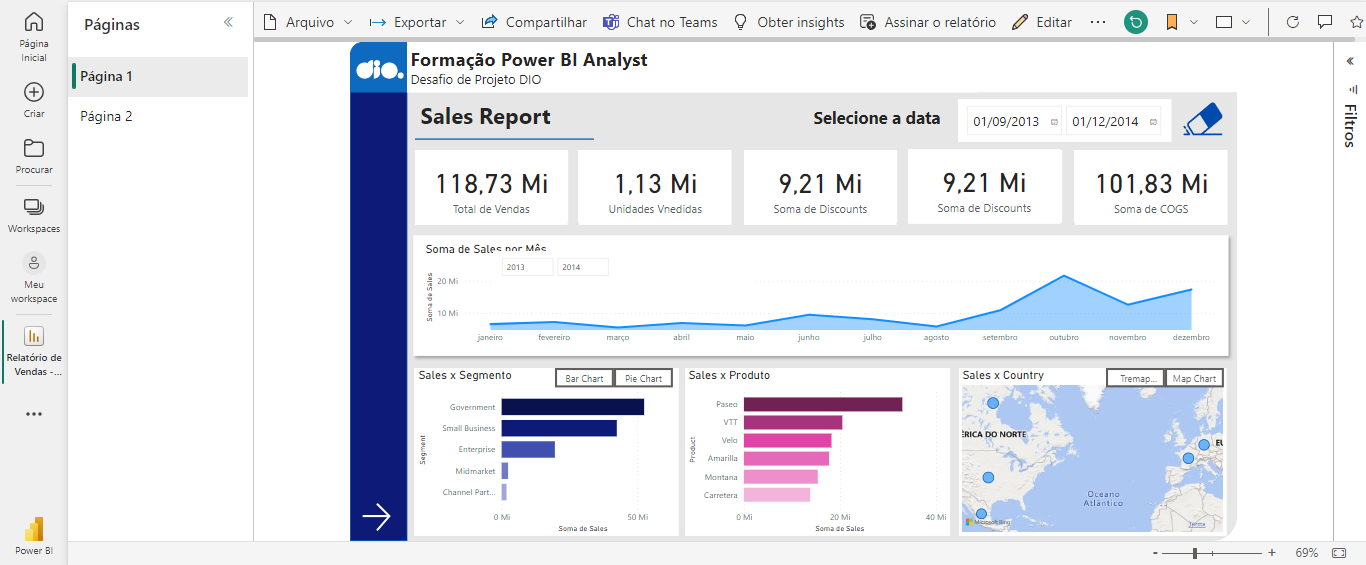

The page's visual inventory and layout, read from the dashboard file:
{"tool":"powerbi","page":{"name":"Página 1","canvas":[1280,720],"ordinal":0},"visuals":[{"type":"shape","box":[0,0,1280,720],"z":0},{"type":"image","title":"Clean","box":[1198,78,66,66],"z":0,"group":"g2"},{"type":"shape","box":[93.3,124.5,258.3,32.1],"z":0,"group":"g5"},{"type":"shape","box":[94,156,220.8,105],"z":0,"group":"g1"},{"type":"clusteredBarChart","title":"Sales x Segmento","fields":{"Y":["Sum(financials. Sales)"],"Category":["financials.Segment"]},"box":[94,470,380,242],"z":0,"group":"g4"},{"type":"map","title":"Sales x Country","fields":{"Category":["financials.Country"],"Size":["Sum(financials. Sales)"]},"box":[878,470,386,242],"z":0,"group":"g3"},{"type":"shape","box":[0,0,82.5,720],"z":1000},{"type":"textbox","box":[95.6,78.3,234.8,64.3],"z":1000,"group":"g5"},{"type":"slicer","fields":{"Values":["financials.Date"]},"box":[878,82,308,62],"z":1000,"group":"g2"},{"type":"shape","box":[1044.8,156,220.8,105],"z":1000,"group":"g1"},{"type":"actionButton","title":"Botão - pie","box":[381.7,470,85,28.3],"z":1250,"group":"g4"},{"type":"actionButton","title":"Botão - map","box":[1175,470,85,28.3],"z":1250,"group":"g3"},{"type":"actionButton","title":"Botão - bar","box":[296.7,470,85,28.3],"z":1500,"group":"g4"},{"type":"actionButton","title":"Botão - tremap","box":[1090,470,85,28.3],"z":1500,"group":"g3"},{"type":"shape","box":[0,0,82.5,72.5],"z":2000},{"type":"textbox","box":[664,88,202,56],"z":2000,"group":"g2"},{"type":"shape","box":[568.1,156,220.8,105],"z":2000,"group":"g1"},{"type":"image","title":"DIO","box":[5,0,77.5,77.5],"z":3000},{"type":"actionButton","box":[1192,86,80,60],"z":3000,"group":"g2"},{"type":"shape","box":[806.4,156,220.8,105],"z":3000,"group":"g1"},{"type":"shape","box":[82.5,0,1197.5,72.5],"z":4000},{"type":"shape","box":[329.8,156,220.8,105],"z":4000,"group":"g1"},{"type":"textbox","box":[82.5,0,825,72.5],"z":5000},{"type":"card","fields":{"Values":["Sum(financials.Discounts)"]},"box":[568,156,220,108],"z":5000,"group":"g1"},{"type":"group","id":"g1","title":"Cartões","box":[94,154,1172,110],"z":6000},{"type":"card","fields":{"Values":["Sum(financials.COGS)"]},"box":[1046,156,220,108],"z":6000,"group":"g1"},{"type":"card","fields":{"Values":["Sum(financials.Discounts)"]},"box":[806,154,220,108],"z":7000,"group":"g1"},{"type":"shape","box":[82,270,1194,192],"z":7000},{"type":"card","fields":{"Values":["Sum(financials. Sales)"]},"box":[94,156,220,108],"z":8000,"group":"g1"},{"type":"shape","title":"Forma","box":[92,470,382,242],"z":8000},{"type":"card","fields":{"Values":["Sum(financials.Units Sold)"]},"box":[330,156,220,108],"z":9000,"group":"g1"},{"type":"shape","box":[484,470,382,242],"z":9000},{"type":"shape","box":[878,470,386,242],"z":10000},{"type":"areaChart","fields":{"Category":["financials.Date.Variation.Hierarquia de datas.Mês"],"Y":["Sum(financials. Sales)"]},"box":[104,288,1152,156],"z":11000},{"type":"clusteredBarChart","title":"Sales x Produto","fields":{"Y":["Sum(financials. Sales)"],"Category":["financials.Product"]},"box":[484,470,382,242],"z":12000},{"type":"group","id":"g2","title":"Filtro por data","box":[664,78,608,68],"z":13000},{"type":"group","id":"g3","title":"Sales x país","box":[878,470,386,242],"z":14000},{"type":"group","id":"g4","title":"Sales x Segmento","box":[94,470,380,242],"z":15000},{"type":"group","id":"g5","title":"Title report","box":[93.3,78.3,258.3,78.3],"z":16000},{"type":"actionButton","box":[12,660,62,52],"z":17000},{"type":"slicer","fields":{"Values":["financials.Date.Variation.Hierarquia de datas.Ano"]},"box":[206.7,301.7,380,58.3],"z":18000}]}

Visuals, with their boxes on the page's 1280x720 design canvas (x1, y1, x2, y2). These are canvas units, not pixel positions in the 1366x565 screenshot, which may show the page scaled, cropped or inside an application window:
shape: <box>0,0,1280,720</box>
"Clean" image: <box>1198,78,1264,144</box>
shape: <box>93,124,352,157</box>
shape: <box>94,156,315,261</box>
"Sales x Segmento" clusteredBarChart: <box>94,470,474,712</box>
"Sales x Country" map: <box>878,470,1264,712</box>
shape: <box>0,0,82,720</box>
textbox: <box>96,78,330,143</box>
slicer - financials.Date: <box>878,82,1186,144</box>
shape: <box>1045,156,1266,261</box>
"Botão - pie" actionButton: <box>382,470,467,498</box>
"Botão - map" actionButton: <box>1175,470,1260,498</box>
"Botão - bar" actionButton: <box>297,470,382,498</box>
"Botão - tremap" actionButton: <box>1090,470,1175,498</box>
shape: <box>0,0,82,72</box>
textbox: <box>664,88,866,144</box>
shape: <box>568,156,789,261</box>
"DIO" image: <box>5,0,82,78</box>
actionButton: <box>1192,86,1272,146</box>
shape: <box>806,156,1027,261</box>
shape: <box>82,0,1280,72</box>
shape: <box>330,156,551,261</box>
textbox: <box>82,0,908,72</box>
card - Sum(financials.Discounts): <box>568,156,788,264</box>
"Cartões" group: <box>94,154,1266,264</box>
card - Sum(financials.COGS): <box>1046,156,1266,264</box>
card - Sum(financials.Discounts): <box>806,154,1026,262</box>
shape: <box>82,270,1276,462</box>
card - Sum(financials. Sales): <box>94,156,314,264</box>
"Forma" shape: <box>92,470,474,712</box>
card - Sum(financials.Units Sold): <box>330,156,550,264</box>
shape: <box>484,470,866,712</box>
shape: <box>878,470,1264,712</box>
areaChart - financials.Date.Variation.Hierarquia de datas.Mês x Sum(financials. Sales): <box>104,288,1256,444</box>
"Sales x Produto" clusteredBarChart: <box>484,470,866,712</box>
"Filtro por data" group: <box>664,78,1272,146</box>
"Sales x país" group: <box>878,470,1264,712</box>
"Sales x Segmento" group: <box>94,470,474,712</box>
"Title report" group: <box>93,78,352,157</box>
actionButton: <box>12,660,74,712</box>
slicer - financials.Date.Variation.Hierarquia de datas.Ano: <box>207,302,587,360</box>
